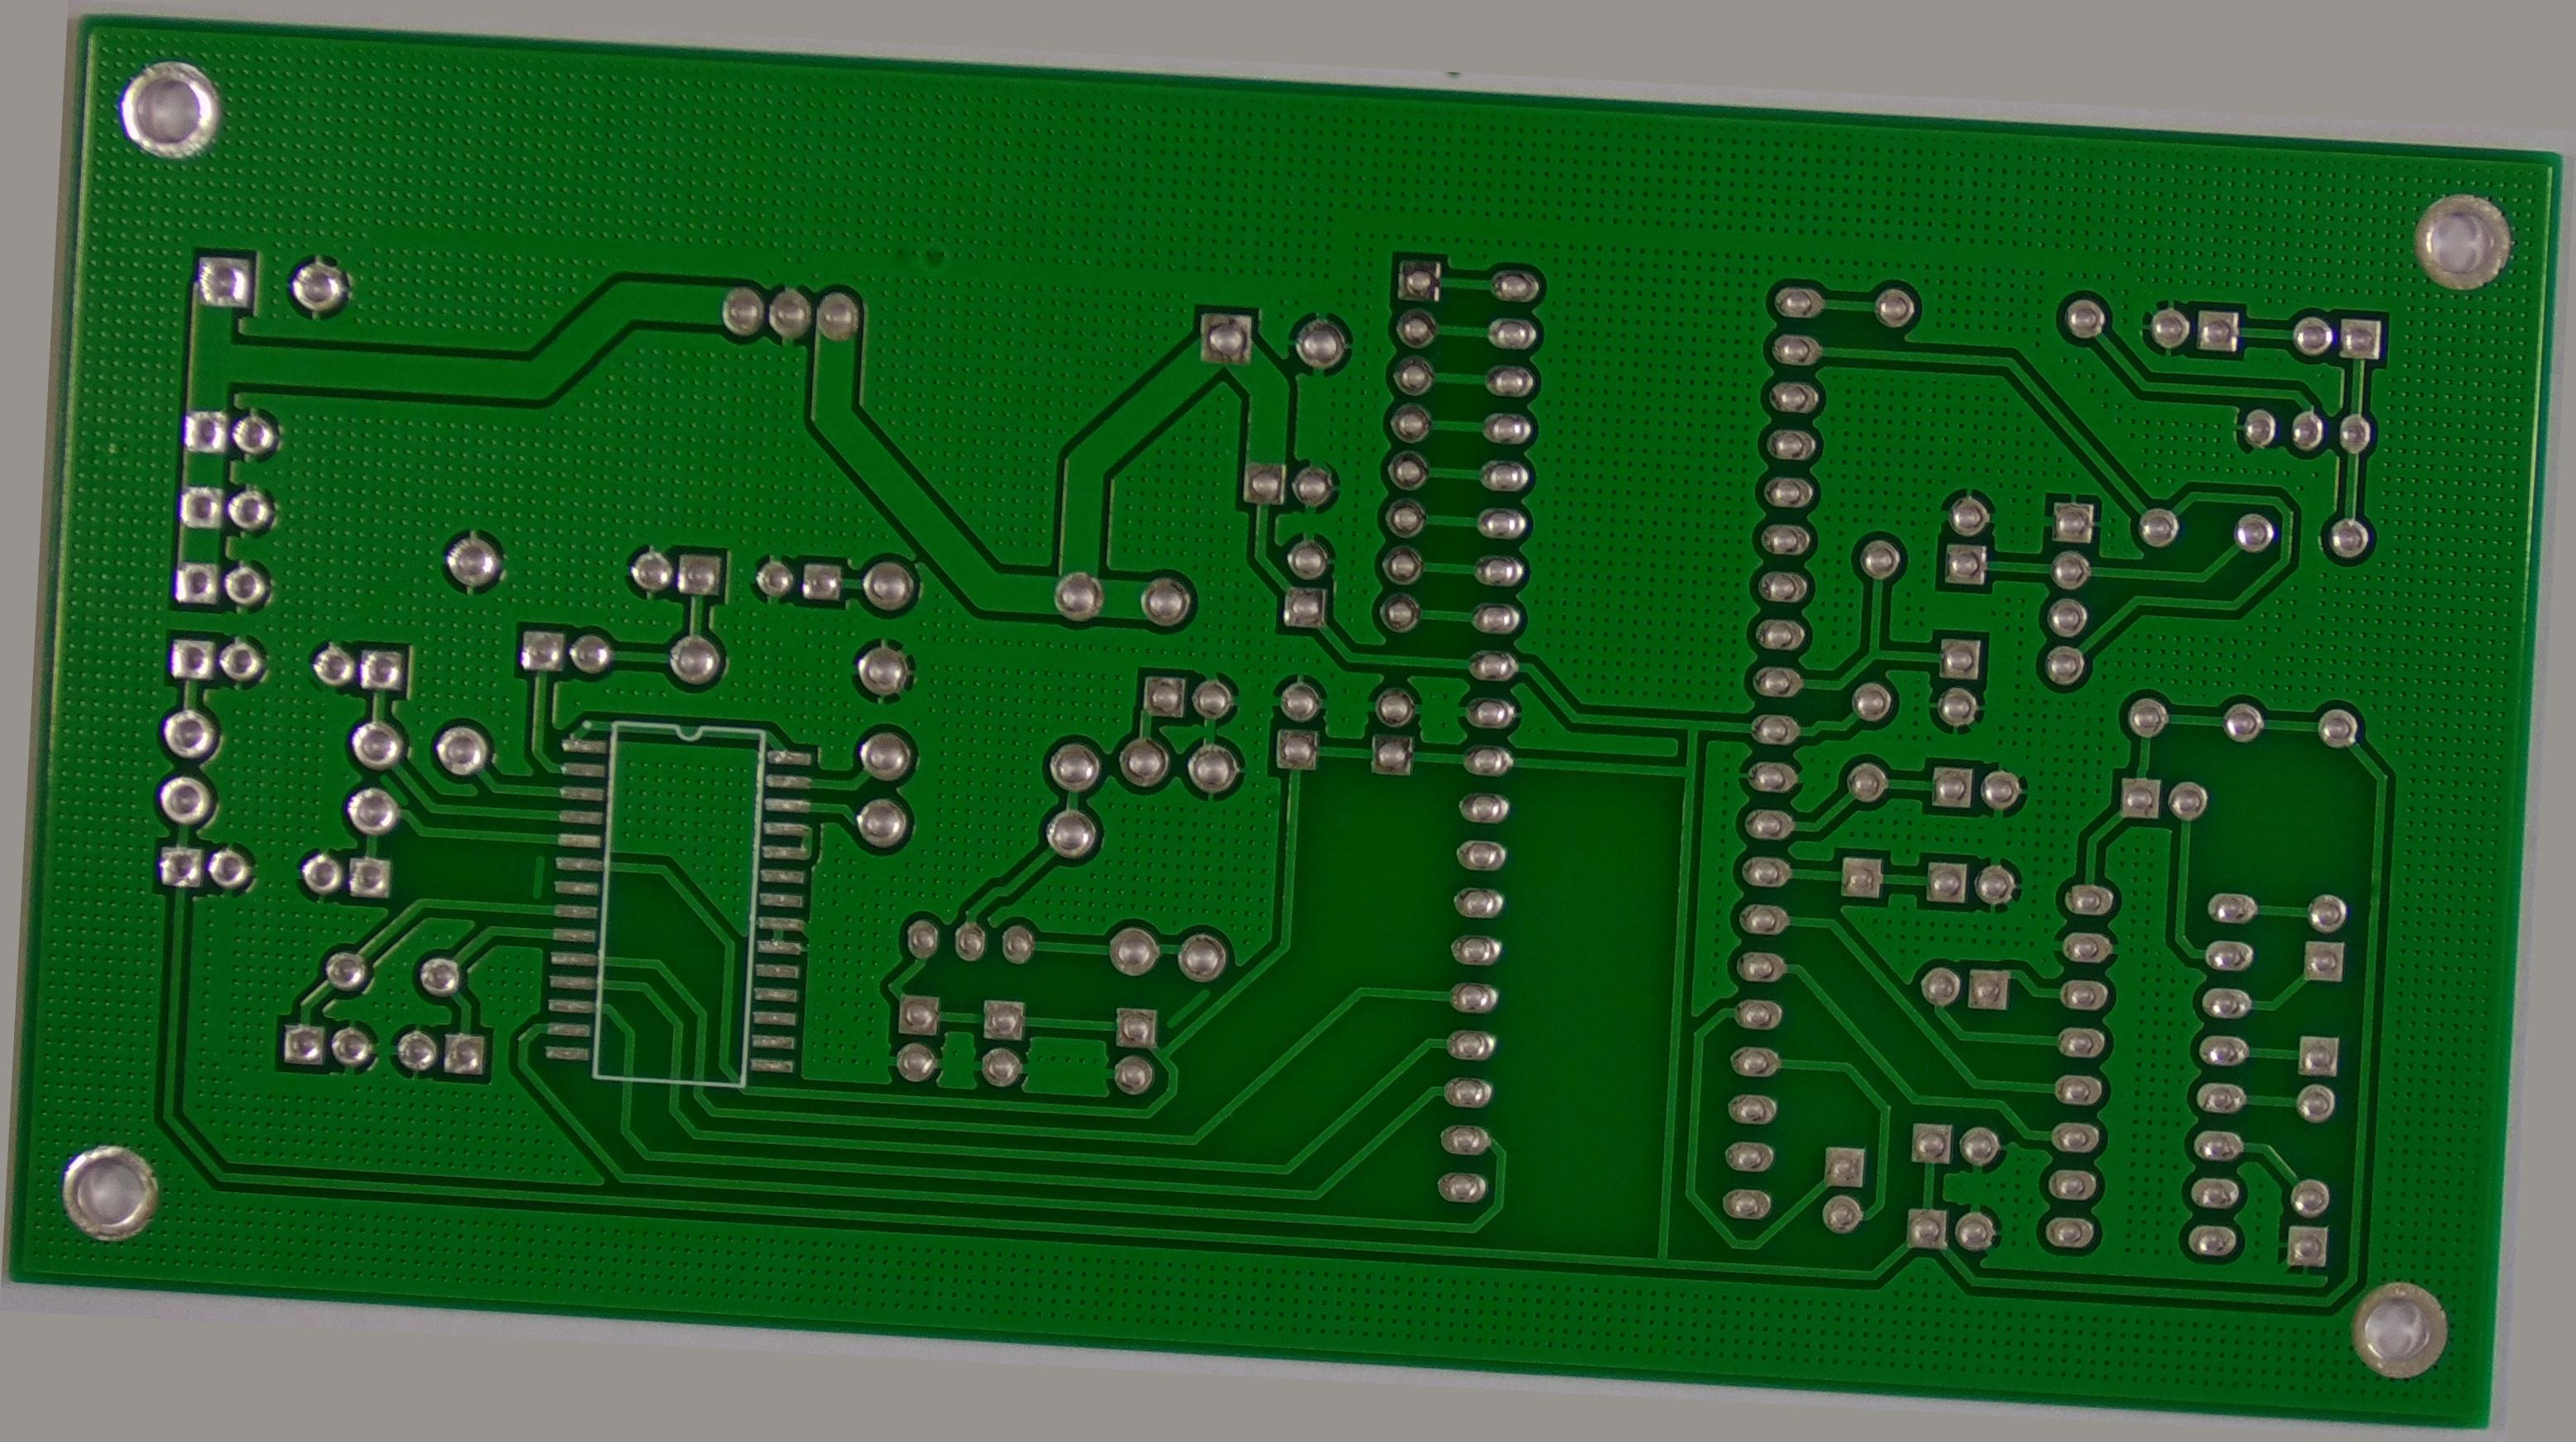spurious_copper: (1166, 1010, 1235, 1072), (510, 904, 543, 964), (354, 828, 396, 872)
